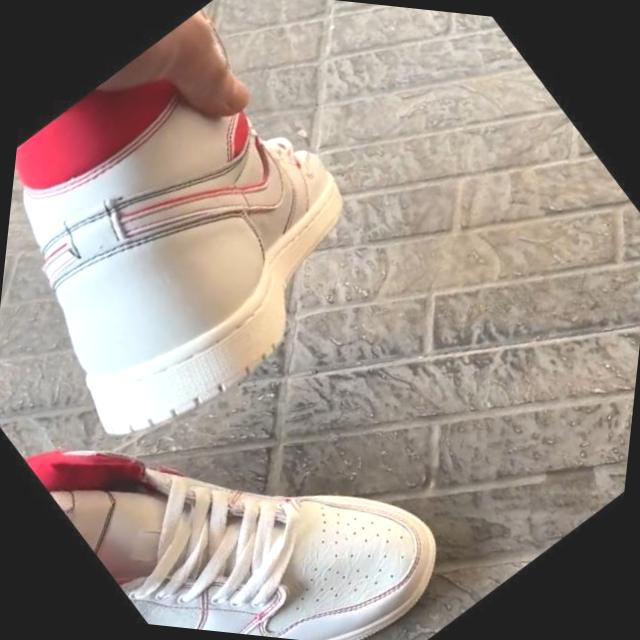nike_fake_jordan: (0, 0, 435, 493), (7, 266, 487, 640)
